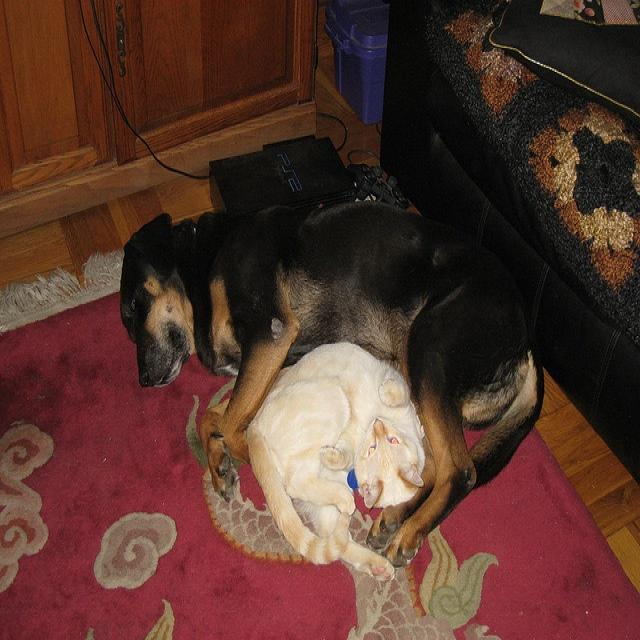dog: (118, 200, 544, 565)
